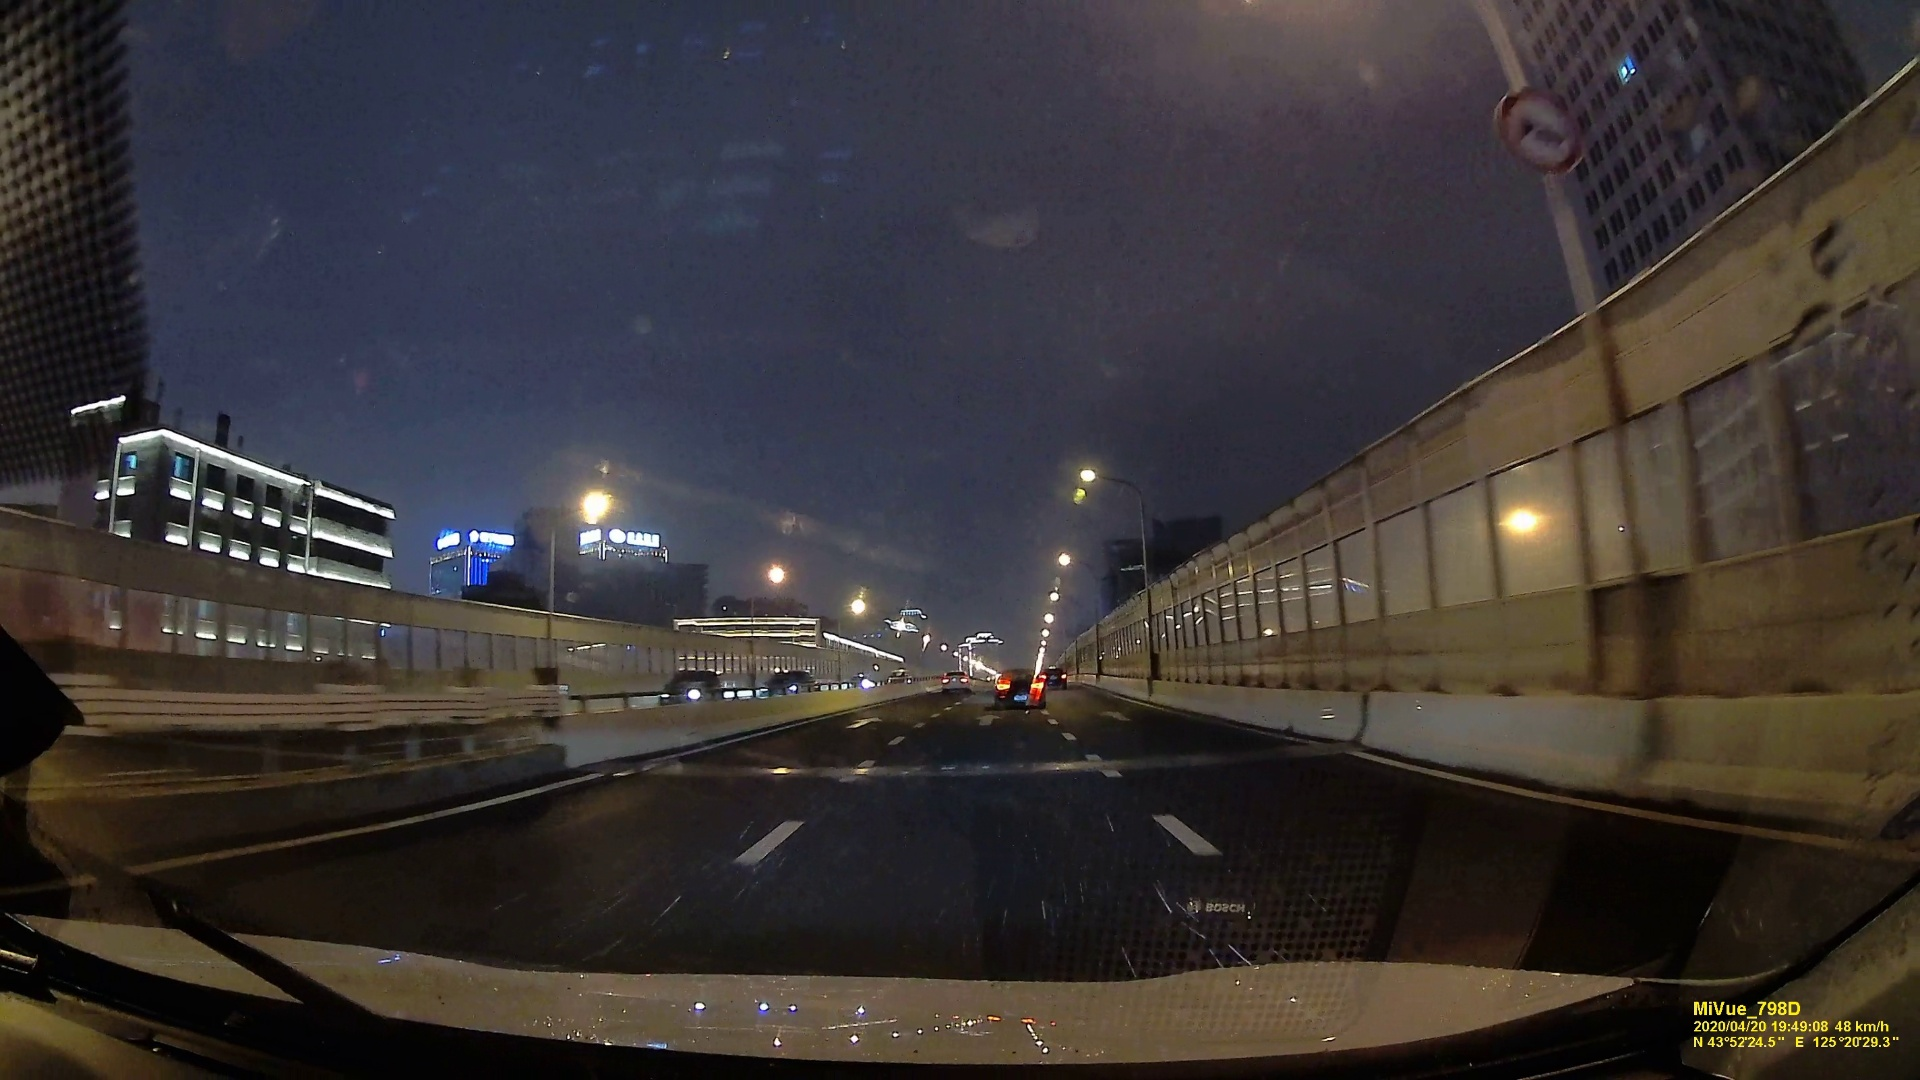traffic_sign: (1491, 88, 1586, 161)
vehicle: (657, 669, 723, 705), (992, 669, 1044, 705), (940, 669, 971, 694), (1040, 665, 1068, 690)
